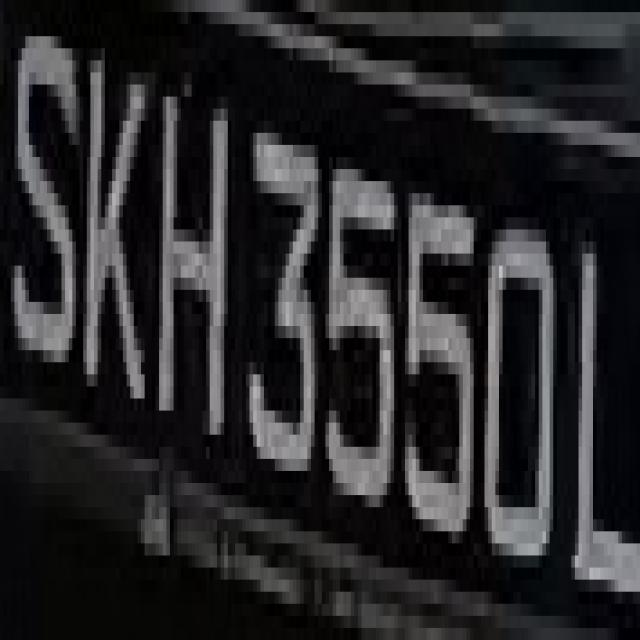0: (470, 169, 557, 592)
3: (242, 85, 326, 495)
5: (318, 109, 402, 556), (402, 145, 478, 580)
H: (152, 36, 231, 483)
K: (76, 24, 152, 435)
L: (564, 181, 640, 616)
S: (7, 24, 76, 387)
